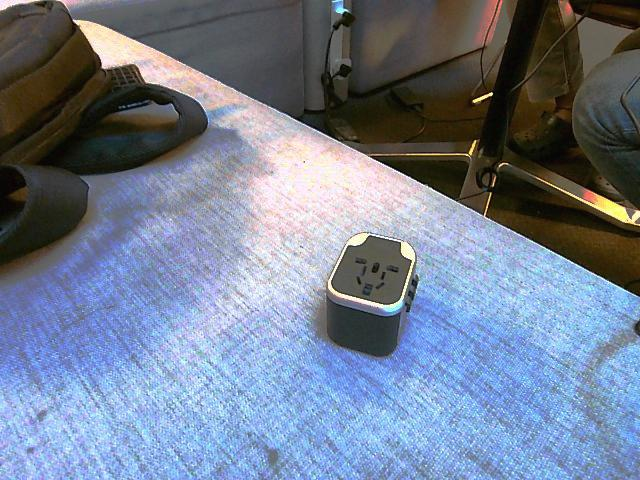adapter: (324, 231, 420, 357)
